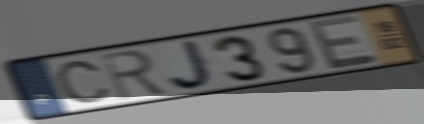3: (211, 33, 268, 83)
9: (264, 25, 319, 76)
C: (53, 59, 113, 105)
E: (305, 13, 382, 73)
J: (166, 38, 218, 92)
R: (97, 47, 170, 103)
